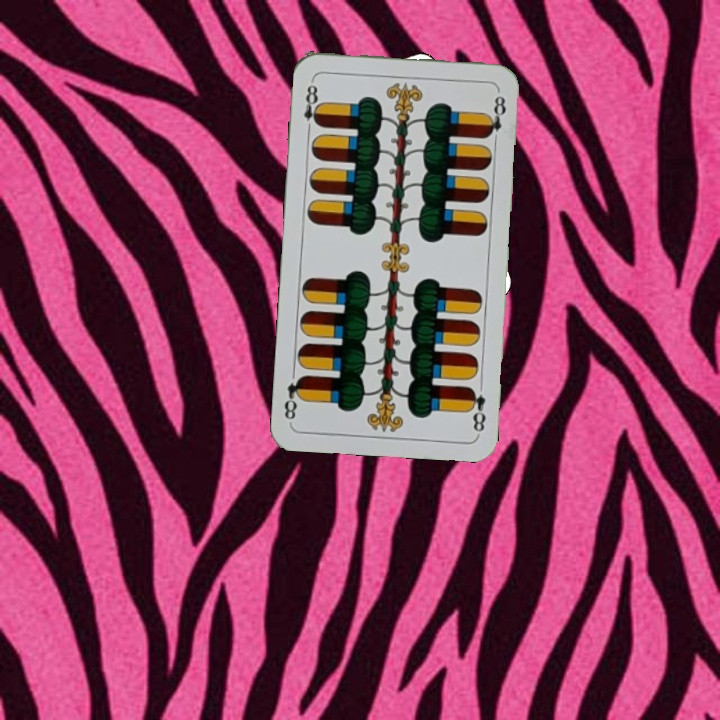E8: (300, 76, 324, 135), (464, 383, 488, 435)
